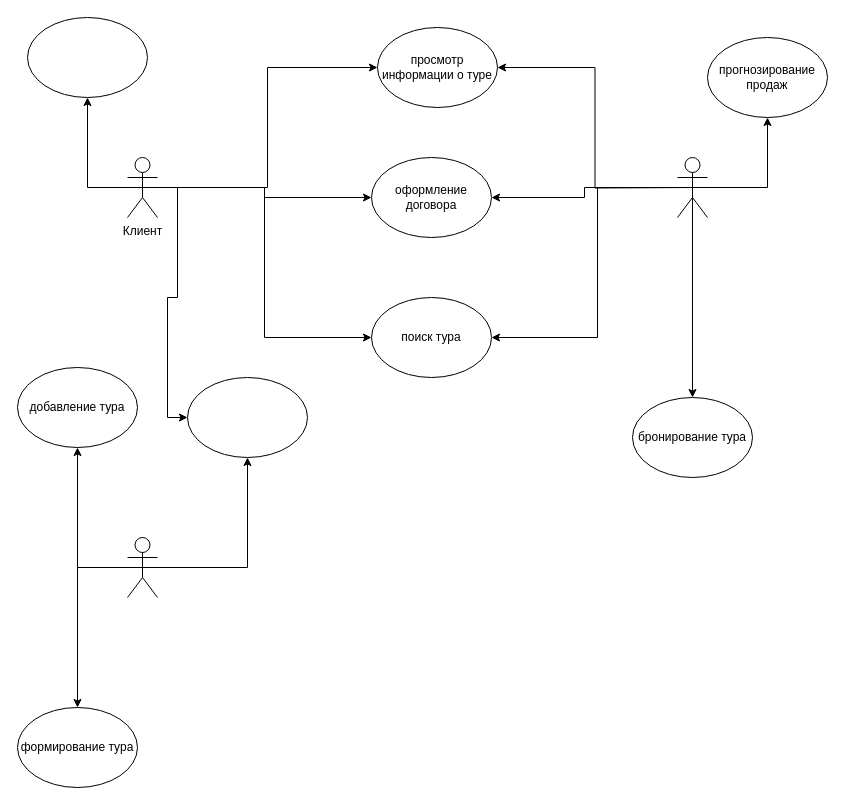
Image size: 845x805. Some labels were removed from this diagram. The box of each missing label's shape, as (x1, y1, x2, y2) in pixels:
оставить пожелание на сайте: (26, 16, 148, 98)
реализация тура: (186, 376, 308, 458)
Турагент: (676, 156, 708, 218)
Туроператор: (126, 536, 158, 598)
